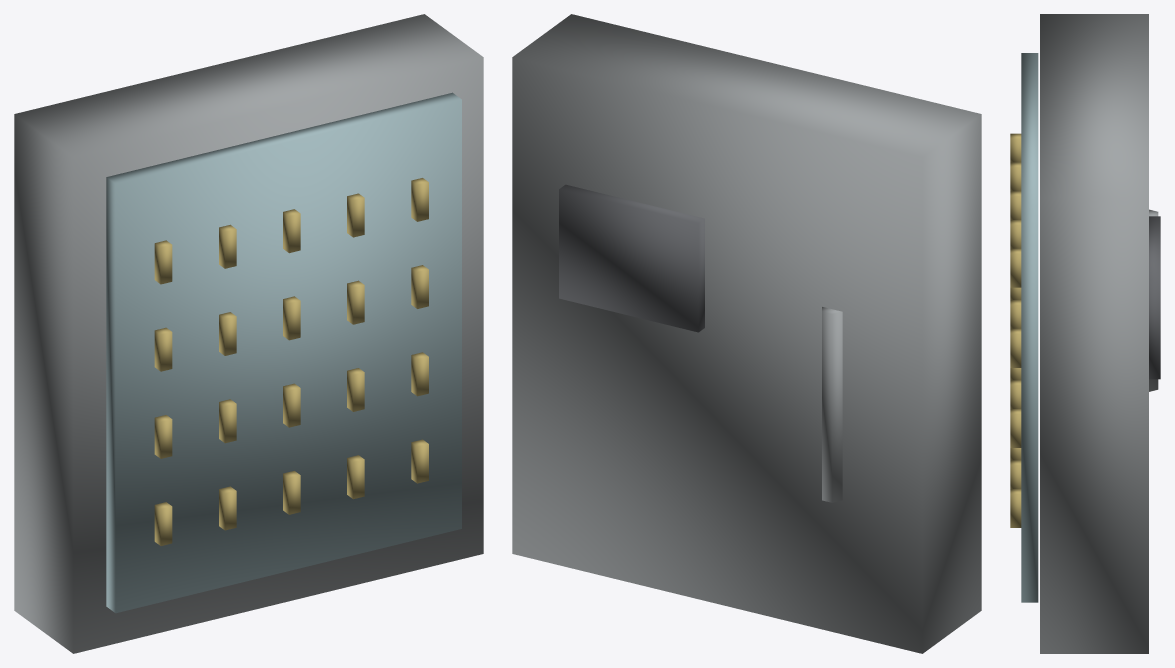
Rendered from wall_key_cabinet__service.glb.
3 renders of one model, left to right at view 1: azimuth 30°, elevation 25°; view 2: azimuth 150°, elevation 25°; view 3: azimuth 270°, elevation 25°, orthographic. The views are drawn at different scales.
Parts seen in each view (by area): view 1: world; view 2: world; view 3: world.
Part boxes in pixels (box(x1,y1,x2,y2)): world: box(14, 14, 483, 653); world: box(512, 14, 981, 653); world: box(1010, 14, 1160, 653).
Bounding box in the file's own units: 0.64 × 0.74 × 0.2215.
